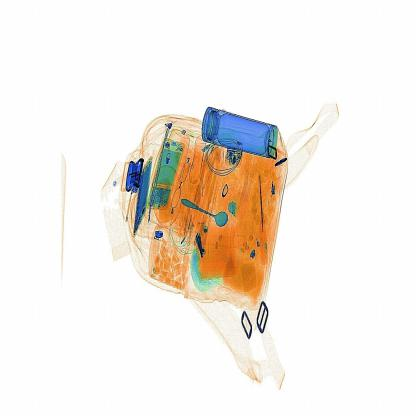wrench: (254, 173, 271, 269)
